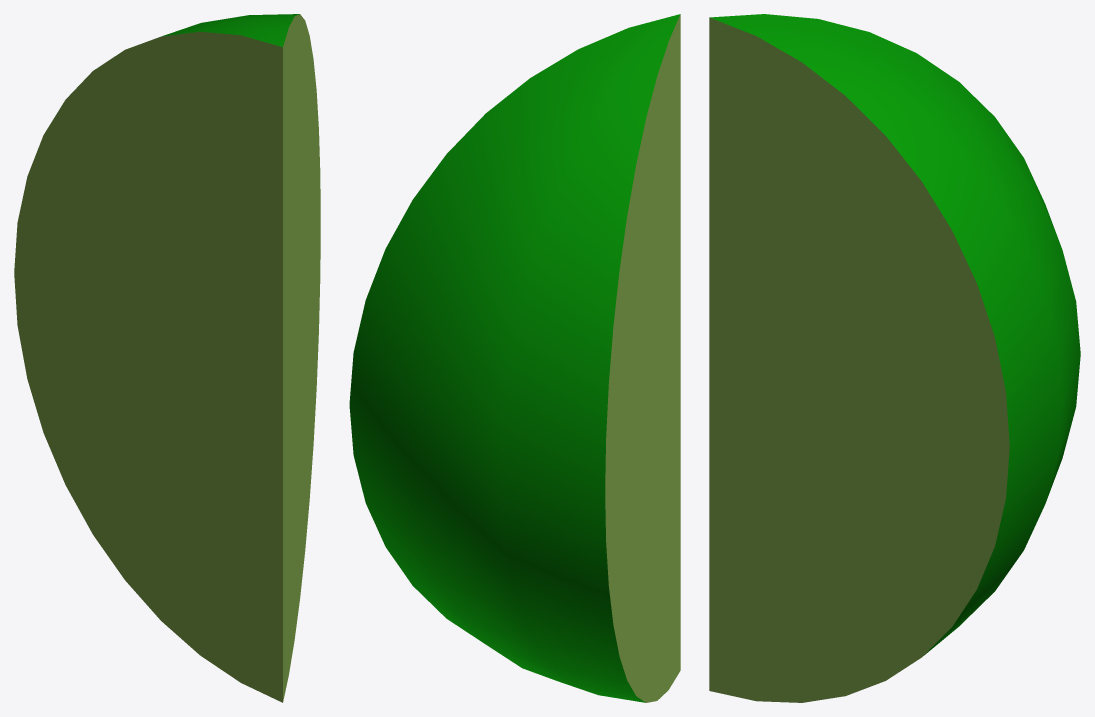
The model's file is LimePieceFBX.fbx.
3 views of the same model, side by side, from view 1: azimuth 30°, elevation 25°; view 2: azimuth 150°, elevation 25°; view 3: azimuth 270°, elevation 25° (orthographic). The views are drawn at different scales.
Visible parts, largest first — view 1: pSphere99; view 2: pSphere99; view 3: pSphere99.
Part boxes in pixels (x1,y1,x2,y2): pSphere99: (14,14,320,702); pSphere99: (349,14,680,702); pSphere99: (709,14,1080,702).
Bounding box in the file's own units: 0.8968 × 2 × 1.
